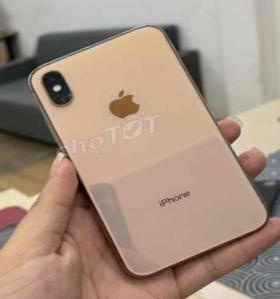scratch: (63, 88, 79, 103), (47, 89, 61, 103)
